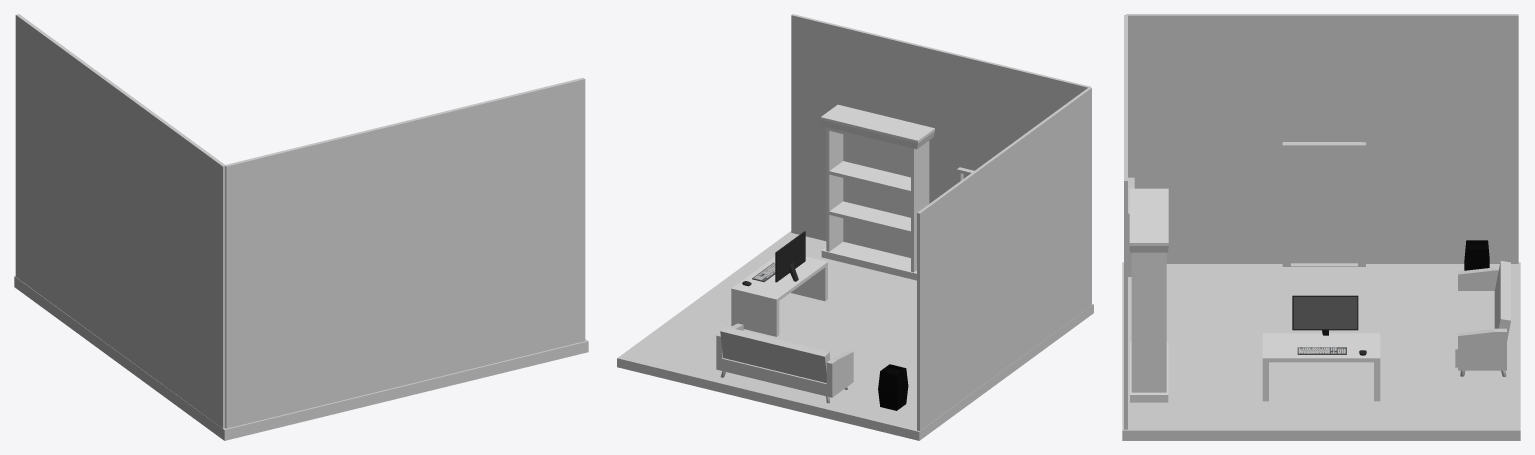
The model's file is Cenario teste.fbx.
3 views of the same model, side by side, from view 1: azimuth 30°, elevation 25°; view 2: azimuth 150°, elevation 25°; view 3: azimuth 270°, elevation 25° (orthographic). The views are drawn at different scales.
Visible parts, largest first — view 1: Cube.004, Cube.005, Cube.001; view 2: Cube.005, Cube.004, Cube.001, Bookshelv, Sofa_LP, Table, Cube, Monitor; view 3: Cube.005, Cube.001, Bookshelv, Sofa_LP, Table, Monitor, Cube.004, Cube, Cube.003.
Part boxes in pixels (<box>): Cube.004: <box>224,77,585,428</box>; Cube.005: <box>15,14,225,428</box>; Cube.001: <box>14,276,588,440</box>; Cube.005: <box>917,87,1091,430</box>; Cube.004: <box>791,14,1090,240</box>; Cube.001: <box>617,231,1093,440</box>; Bookshelv: <box>820,104,934,280</box>; Sofa_LP: <box>716,323,853,403</box>; Table: <box>731,256,827,336</box>; Cube: <box>878,364,908,410</box>; Monitor: <box>775,231,805,282</box>; Cube.005: <box>1126,14,1518,266</box>; Cube.001: <box>1122,262,1520,440</box>; Bookshelv: <box>1129,188,1168,402</box>; Sofa_LP: <box>1455,261,1510,376</box>; Table: <box>1262,333,1380,401</box>; Monitor: <box>1292,295,1358,335</box>; Cube.004: <box>1124,15,1134,429</box>; Cube: <box>1464,240,1489,270</box>; Cube.003: <box>1297,347,1346,354</box>.
Bounding box in the file's own units: 1339 × 960 × 1339.
